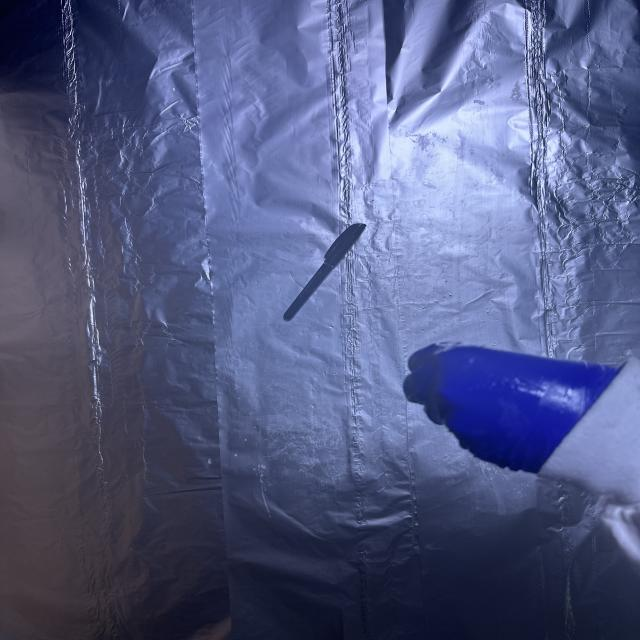gloves_contaminated: (403, 344, 620, 473)
